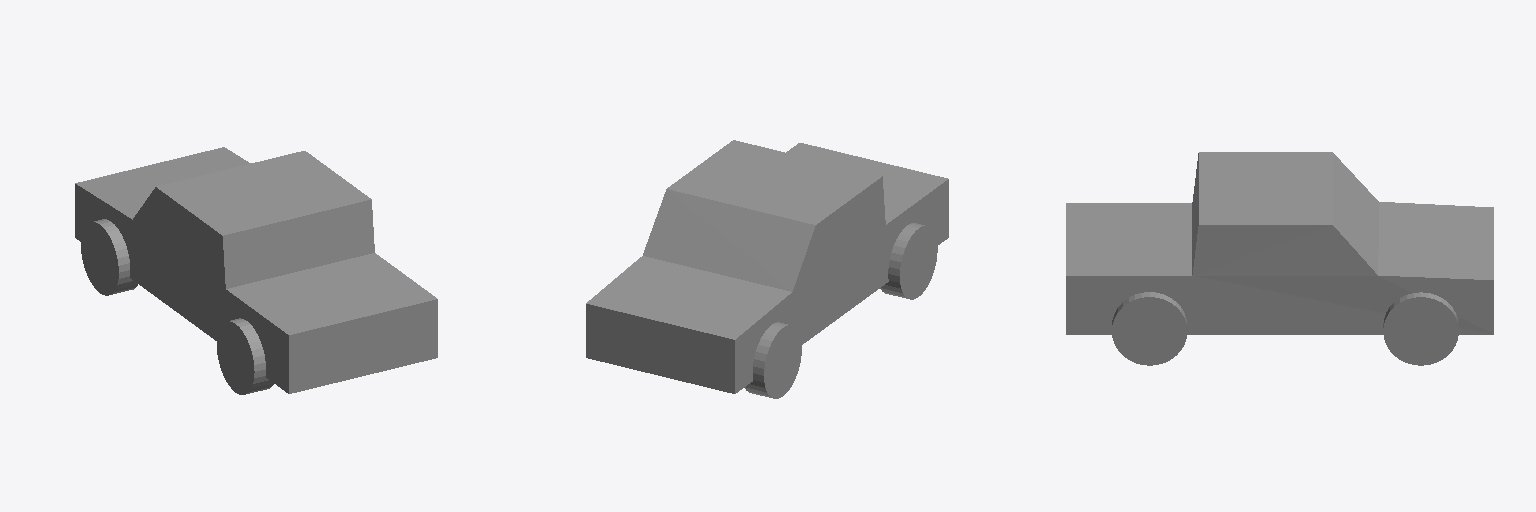
File: truck.obj
The picture shows the model from 3 angles: view 1: azimuth 30°, elevation 25°; view 2: azimuth 150°, elevation 25°; view 3: azimuth 270°, elevation 25°; orthographic projection.
Parts seen in each view (by area): view 1: Cube_Cube.001, Cylinder.003, Cylinder; view 2: Cube_Cube.001, Cylinder.003, Cylinder; view 3: Cube_Cube.001, Cylinder.002, Cylinder.001.
Boxes of the visible parts, x1,y1,x2,y2 form: Cube_Cube.001: [75, 147, 437, 393]; Cylinder.003: [217, 318, 273, 394]; Cylinder: [81, 219, 137, 295]; Cube_Cube.001: [586, 140, 948, 393]; Cylinder.003: [880, 223, 937, 299]; Cylinder: [744, 322, 801, 398]; Cube_Cube.001: [1066, 152, 1493, 334]; Cylinder.002: [1112, 292, 1187, 365]; Cylinder.001: [1383, 292, 1458, 365].
Bounding box in the file's own units: 1.65 × 1.25 × 3.57.